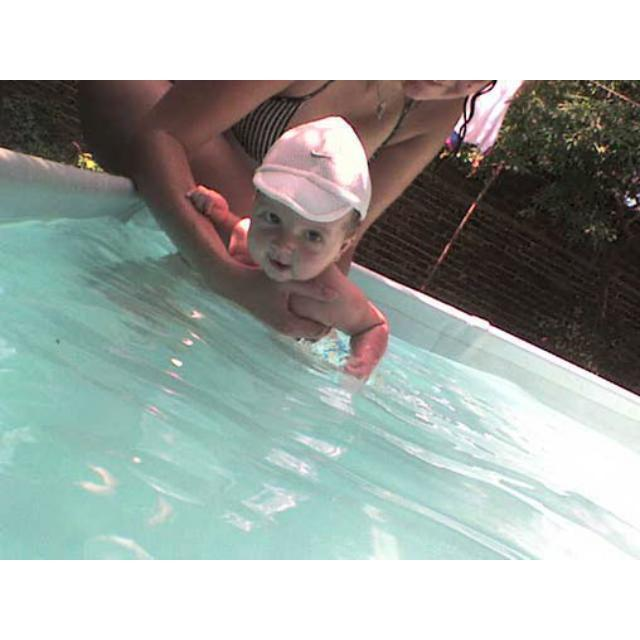human: (183, 155, 394, 388)
